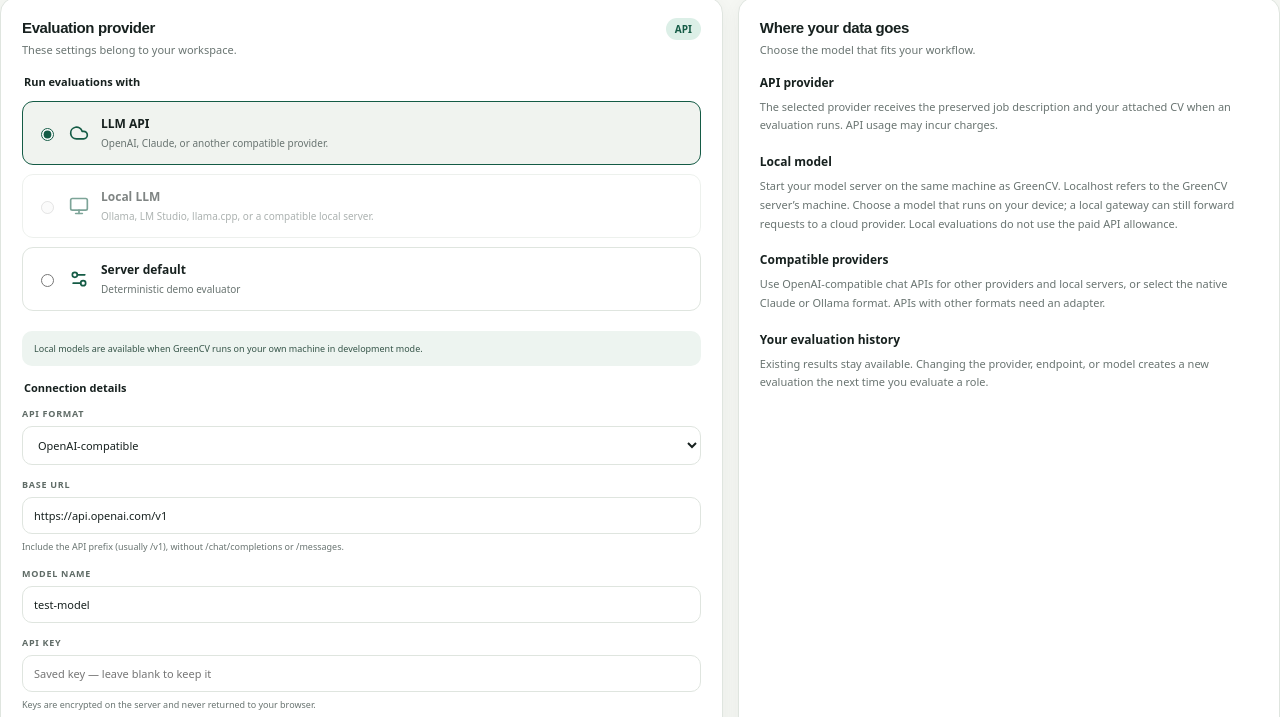
Test case: LLM settings › keeps edits after a server failure and explains local availability
Expected: the radio button labelled "Local LLM" is disabled, x1=41 y1=201 x2=54 y2=214
Step 1. Replace the text in the field labelled "Model name" with "keep-edit" → (361, 604), box x1=22 y1=586 x2=701 y2=623
(page scrolled)
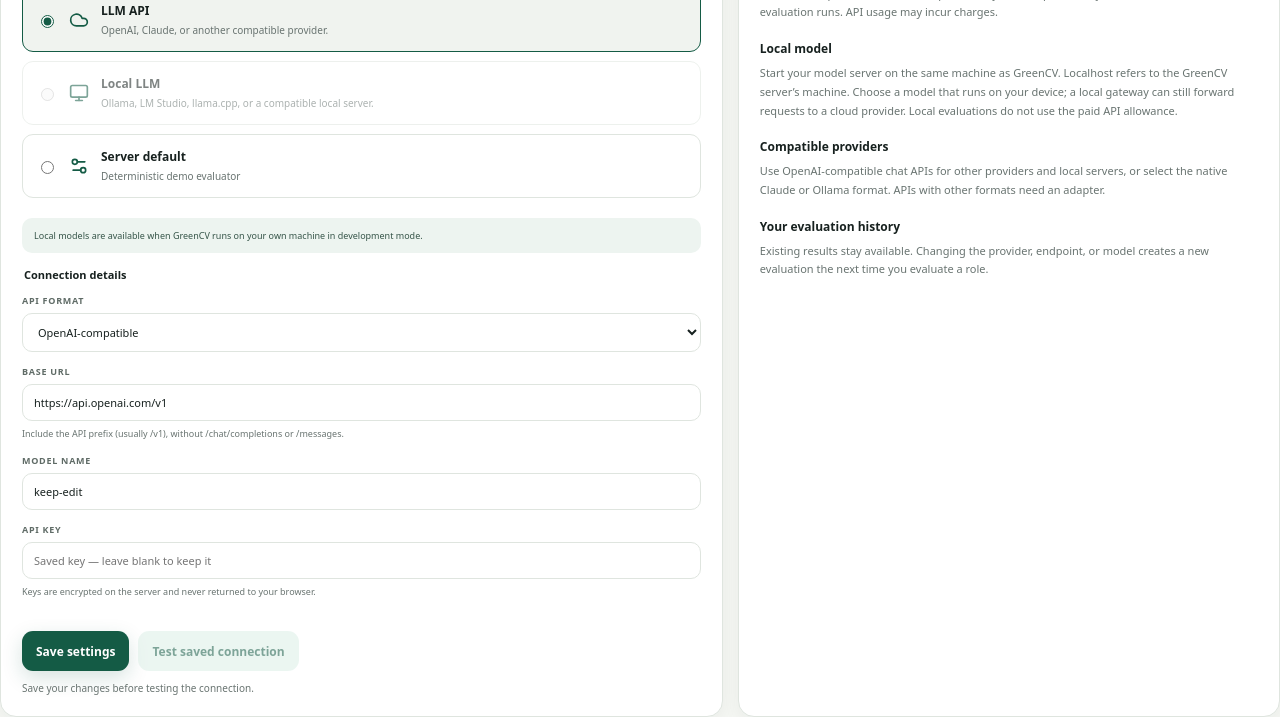
Step 2. Click the button "Save settings" → click(76, 651), box x1=22 y1=631 x2=130 y2=671
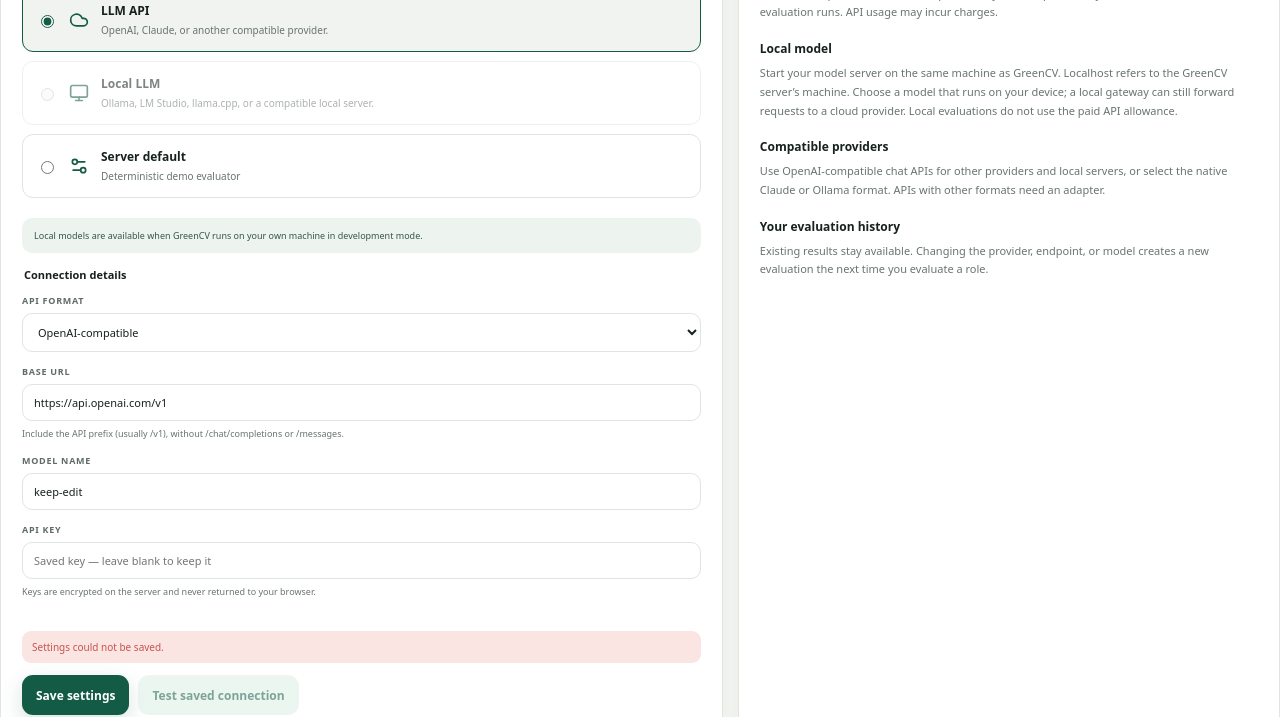
Result: the message reads "Settings could not be saved." at x1=32 y1=640 x2=164 y2=654
